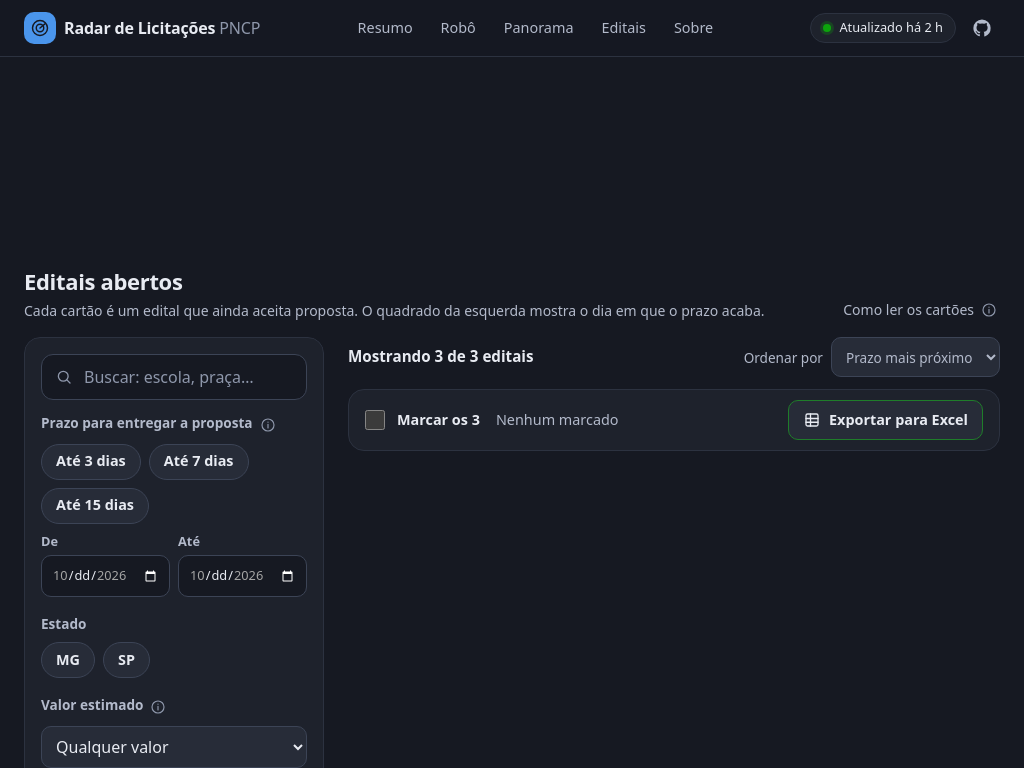
Test case: App › marcar editais e exportar para o Excel › diz, no painel e no rodapé, que é uma demonstração e não um limite
The width and height of the screenshot is (1024, 768).
(page scrolled)
Click the button "Exportar para Excel".
click(886, 420)  # box [788,400,983,440]
(page scrolled)
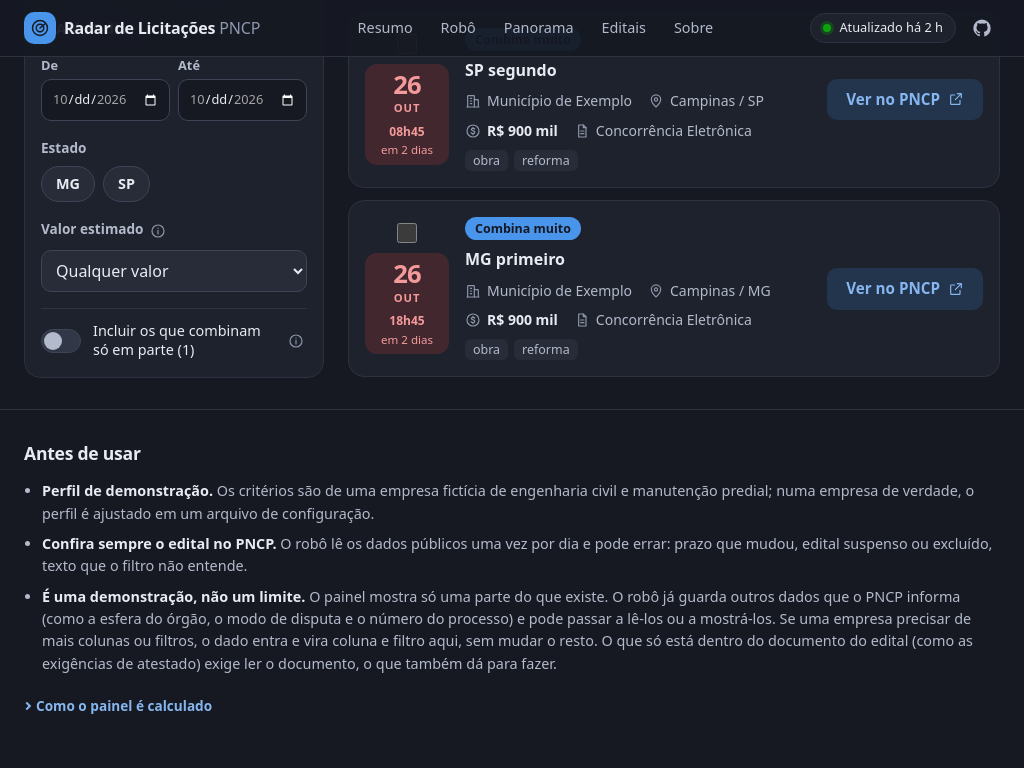
expect the text "Perfil de demonstração." is shown: met, box [42,481,213,500]
expect the text "É uma demonstração, não um limite" is shown 2 times: met
expect the text "esfera do órgão, o modo de disputa e o número do processo" is shown 2 times: met
